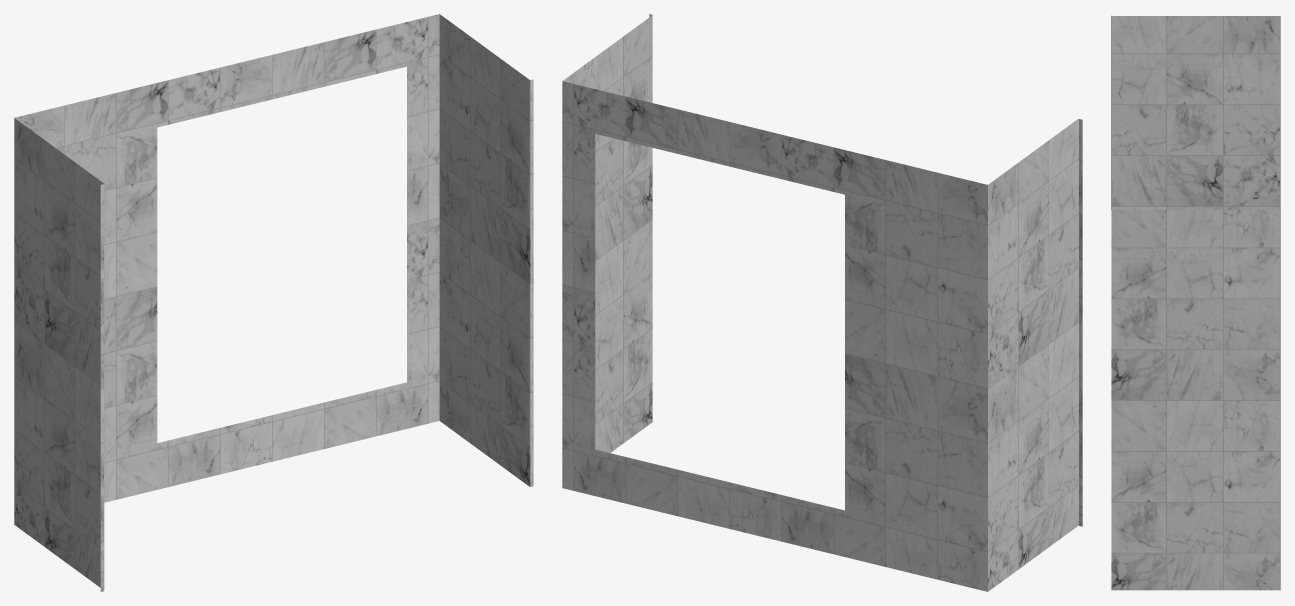
The model's file is WallTiles_holey.FBX.
The picture shows the model from 3 angles, left to right: view 1: azimuth 30°, elevation 25°; view 2: azimuth 150°, elevation 25°; view 3: azimuth 270°, elevation 25°; orthographic projection. The views are drawn at different scales.
Parts seen in each view (by area): view 1: WallTiles_holey; view 2: WallTiles_holey; view 3: WallTiles_holey.
Part boxes in pixels (bbox=[...]): WallTiles_holey: bbox=[14, 14, 533, 591]; WallTiles_holey: bbox=[562, 14, 1082, 591]; WallTiles_holey: bbox=[1111, 15, 1280, 590].
Bounding box in the file's own units: 208 × 187 × 75.36.
